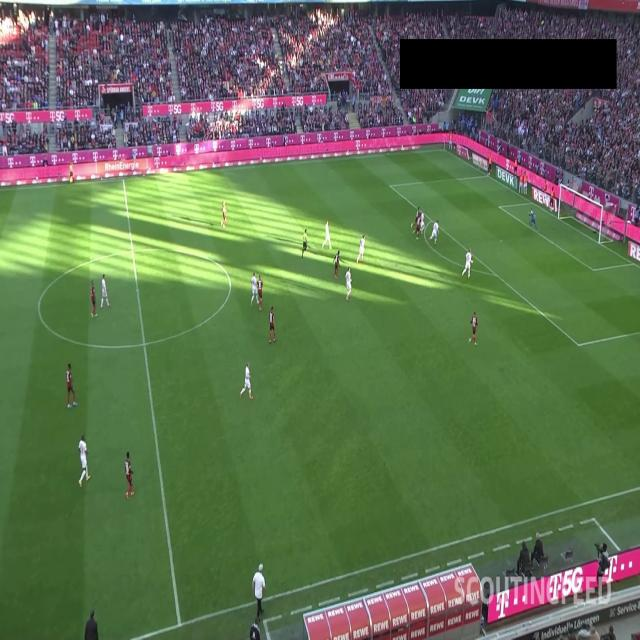goalkeeper: (528, 208, 539, 231)
player: (78, 434, 91, 488), (239, 361, 254, 400), (66, 363, 77, 408), (125, 451, 134, 500), (100, 274, 111, 308), (250, 272, 260, 308), (469, 310, 478, 345), (90, 280, 98, 318), (462, 248, 472, 278), (356, 234, 366, 264), (322, 220, 332, 250), (411, 206, 421, 236), (268, 306, 276, 343), (428, 219, 439, 245), (345, 267, 352, 301), (333, 250, 340, 280), (414, 215, 422, 240), (418, 212, 426, 236), (258, 274, 263, 310), (221, 200, 227, 228)
referee: (302, 228, 308, 258), (69, 162, 74, 183)
